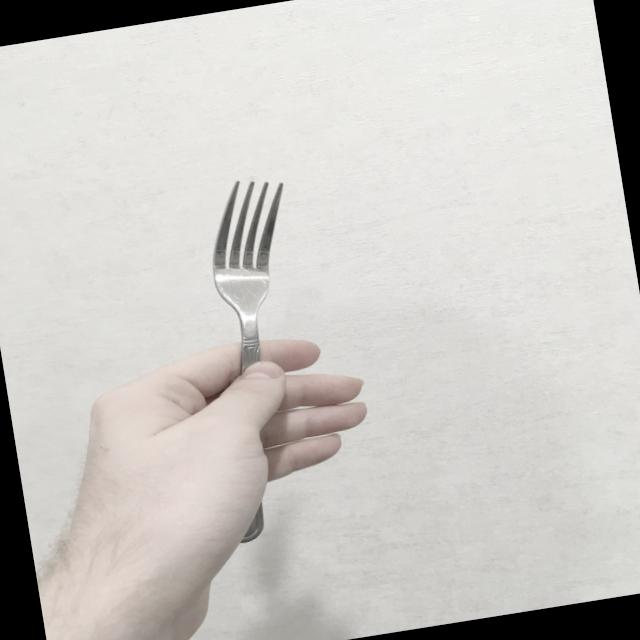fork: (184, 172, 342, 541)
